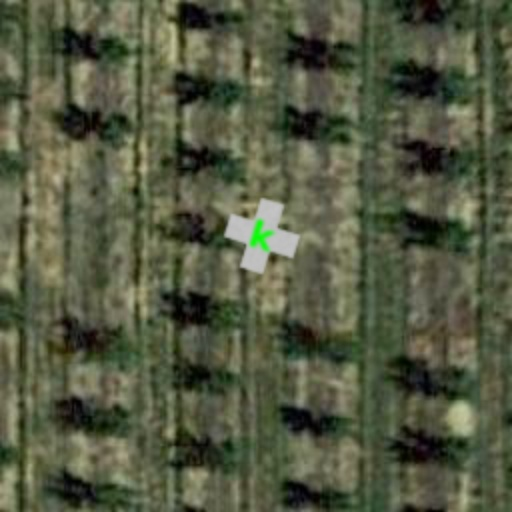cross: (216, 190, 308, 282)
